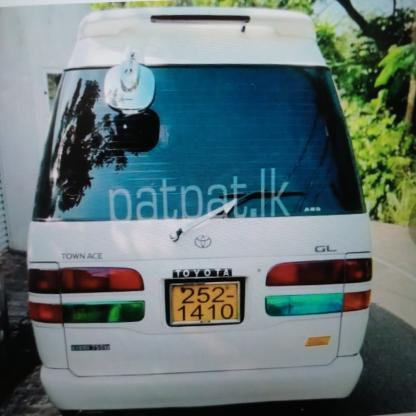number plate: (176, 280, 237, 323)
van back: (23, 0, 378, 416)
